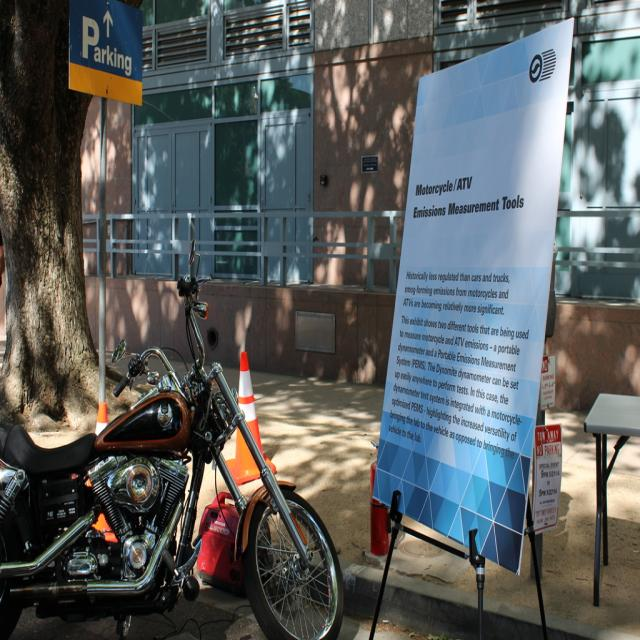Motorbikes: (1, 267, 346, 639)
